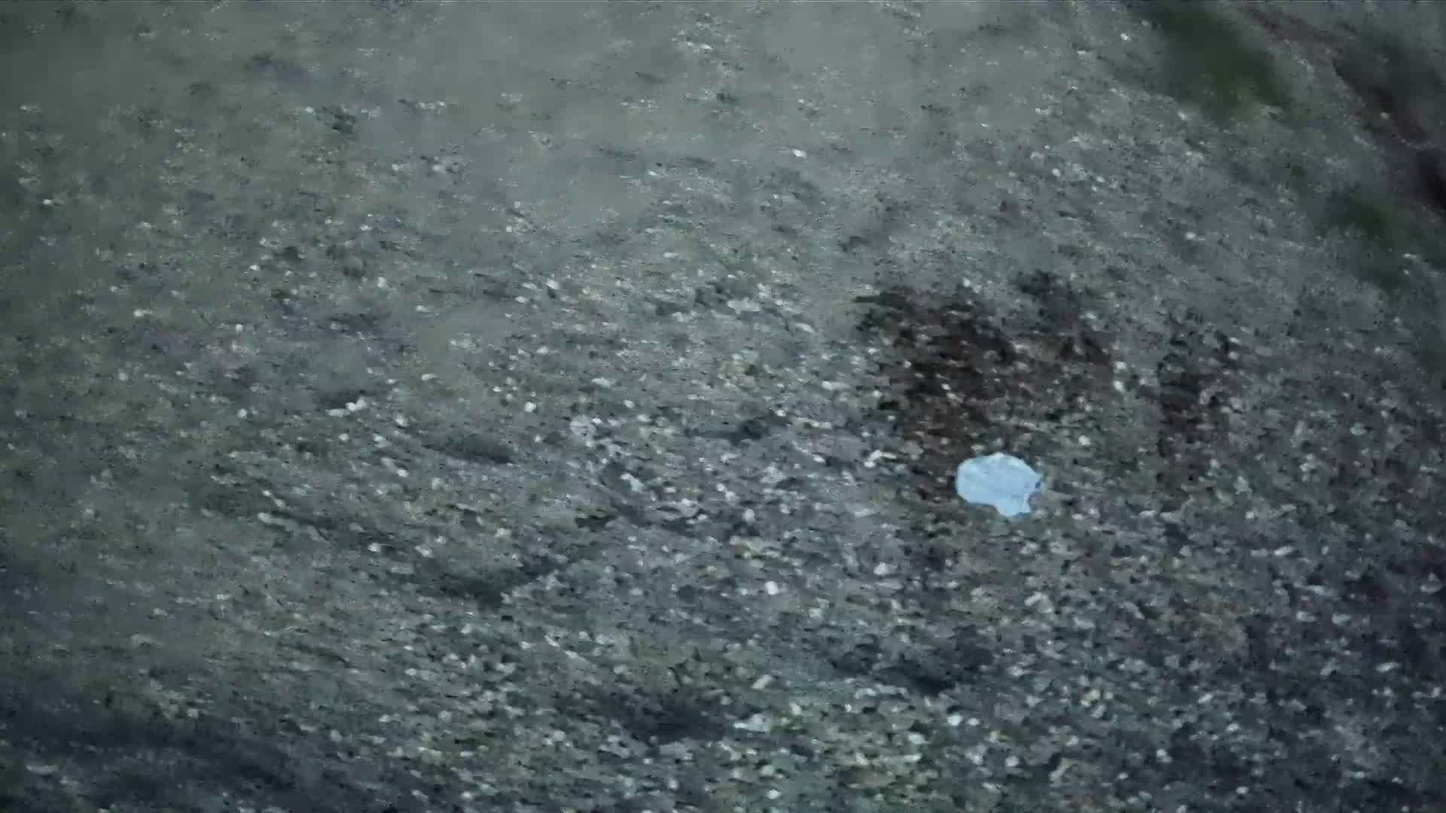Target: (952, 447, 1043, 523)
